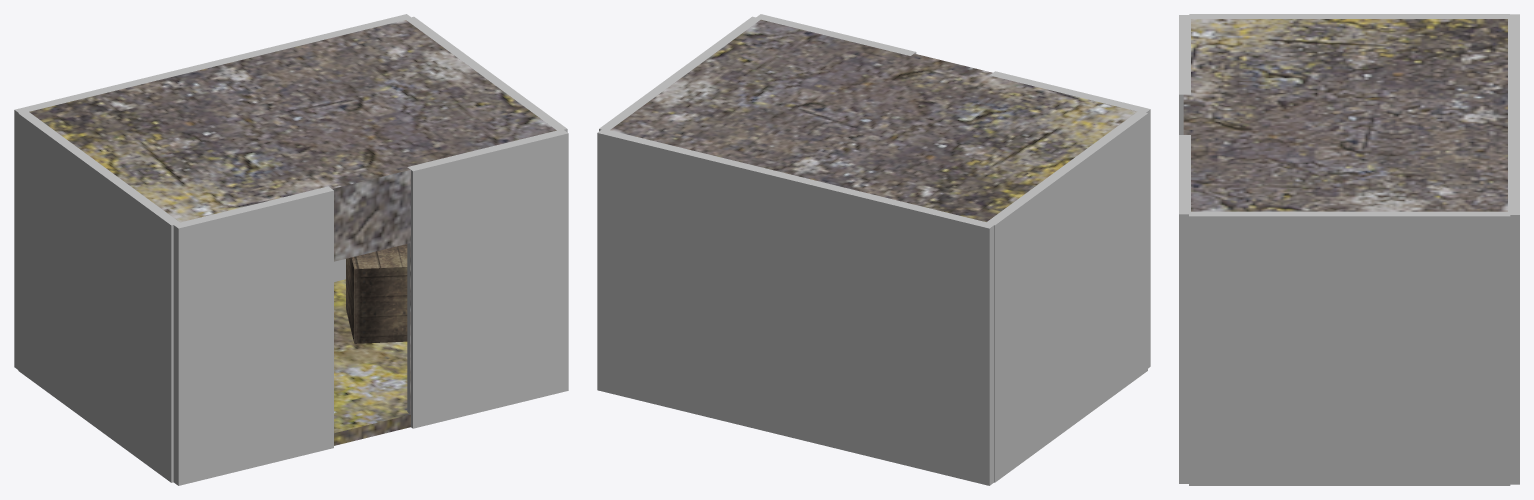
File: houses.obj
3 renders of one model, left to right at view 1: azimuth 30°, elevation 25°; view 2: azimuth 150°, elevation 25°; view 3: azimuth 270°, elevation 25°, orthographic. The views are drawn at different scales.
Parts seen in each view (by area): view 1: House_Cube.001, cBox_House.004_Cube.008, cBox_House.005_Cube.010, cBox_House.002_Cube.011, Caisse_Cube.003, cBox_House.001_Cube.005, cBox_House.003_Cube.012; view 2: cBox_House.001_Cube.005, House_Cube.001, cBox_House.002_Cube.011, cBox_House.004_Cube.008, cBox_House.003_Cube.012, cBox_House.005_Cube.010; view 3: cBox_House.003_Cube.012, House_Cube.001, cBox_House.001_Cube.005, cBox_House.005_Cube.010, cBox_House.002_Cube.011, cBox_House.004_Cube.008.
Boxes of the visible parts, x1,y1,x2,y2 form: House_Cube.001: (29,20,556,445); cBox_House.004_Cube.008: (173,186,333,485); cBox_House.005_Cube.010: (407,130,568,428); cBox_House.002_Cube.011: (18,111,179,482); Caisse_Cube.003: (346,244,407,343); cBox_House.001_Cube.005: (14,14,410,369); cBox_House.003_Cube.012: (405,16,567,132); cBox_House.001_Cube.005: (597,129,994,485); House_Cube.001: (610,19,1137,221); cBox_House.002_Cube.011: (987,111,1147,482); cBox_House.004_Cube.008: (989,71,1150,368); cBox_House.003_Cube.012: (599,16,760,131); cBox_House.005_Cube.010: (755,14,916,55); cBox_House.003_Cube.012: (1189,211,1510,485); House_Cube.001: (1183,19,1507,211); cBox_House.001_Cube.005: (1508,14,1519,484); cBox_House.005_Cube.010: (1179,135,1190,483); cBox_House.002_Cube.011: (1189,14,1509,18); cBox_House.004_Cube.008: (1179,15,1190,134).
Bounding box in the file's own units: 10.16 × 6.31 × 7.23.
